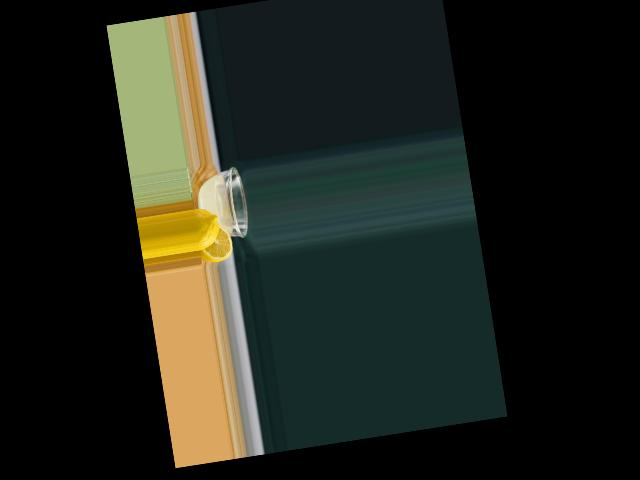lemon: (192, 204, 234, 262)
